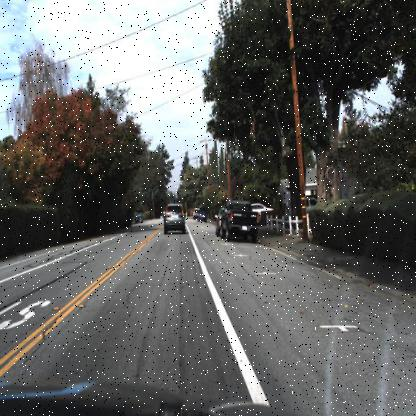car: (221, 197, 261, 247), (159, 198, 193, 244), (280, 184, 322, 220), (248, 198, 278, 216), (212, 204, 225, 242), (132, 209, 145, 228)
